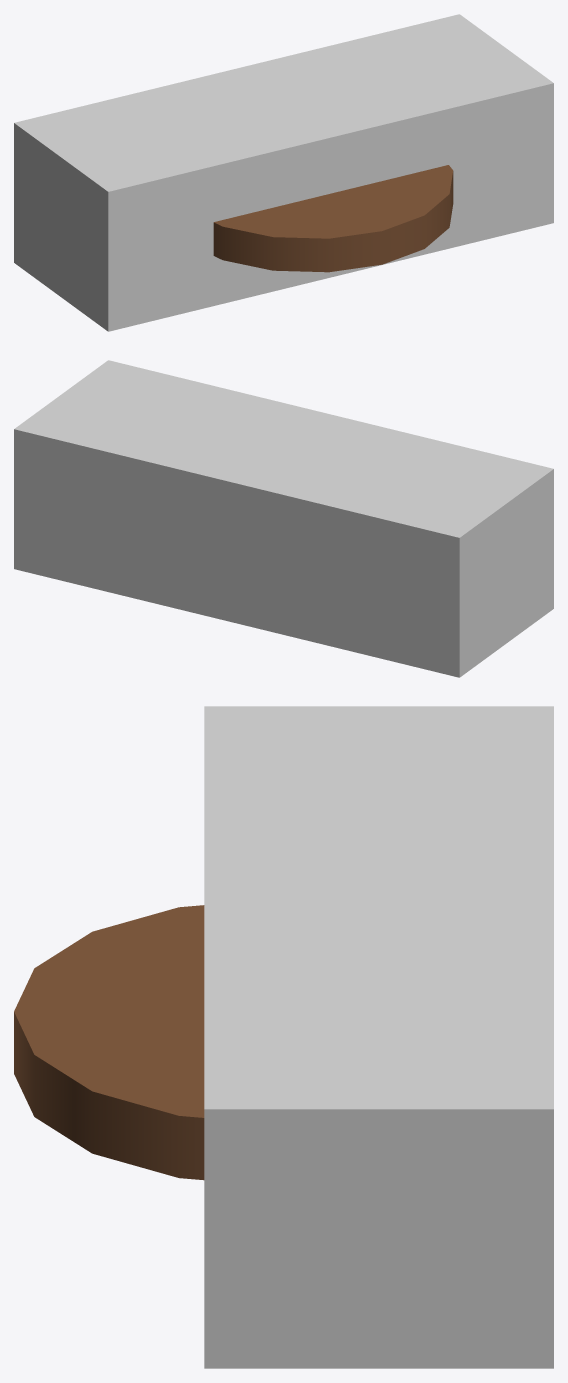
File: picture-light_luxury.glb
The picture shows the model from 3 angles, top to bottom: view 1: azimuth 30°, elevation 25°; view 2: azimuth 150°, elevation 25°; view 3: azimuth 270°, elevation 25°; orthographic projection. The views are drawn at different scales.
Parts seen in each view (by area): view 1: COL_picture-light, MESH_Shade; view 2: COL_picture-light; view 3: COL_picture-light, MESH_Shade.
Boxes of the visible parts, left/top/right/bottom form: COL_picture-light: left=14, top=14, right=553, bottom=331; MESH_Shade: left=213, top=165, right=453, bottom=272; COL_picture-light: left=14, top=360, right=553, bottom=677; COL_picture-light: left=204, top=706, right=553, bottom=1368; MESH_Shade: left=14, top=905, right=204, bottom=1180.
Size of the model in its own units: 0.6 by 0.18 by 0.3396.
